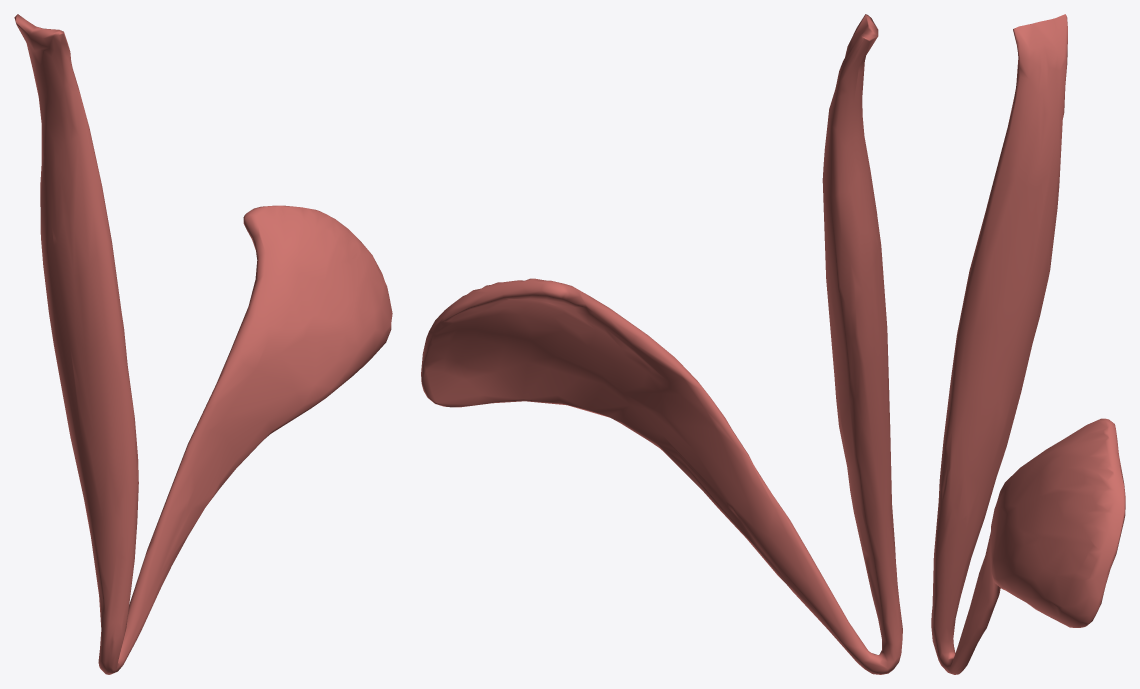
The picture shows the model from 3 angles, left to right: view 1: azimuth 30°, elevation 25°; view 2: azimuth 150°, elevation 25°; view 3: azimuth 270°, elevation 25°; orthographic projection. The views are drawn at different scales.
Visible parts, largest first — view 1: 左侧上斜肌; view 2: 左侧上斜肌; view 3: 左侧上斜肌.
Boxes of the visible parts, x1,y1,x2,y2 form: 左侧上斜肌: (14,14,392,674); 左侧上斜肌: (421,14,902,674); 左侧上斜肌: (931,14,1125,674).
Bounding box in the file's own units: 0.0412 × 0.0638 × 0.0175.
